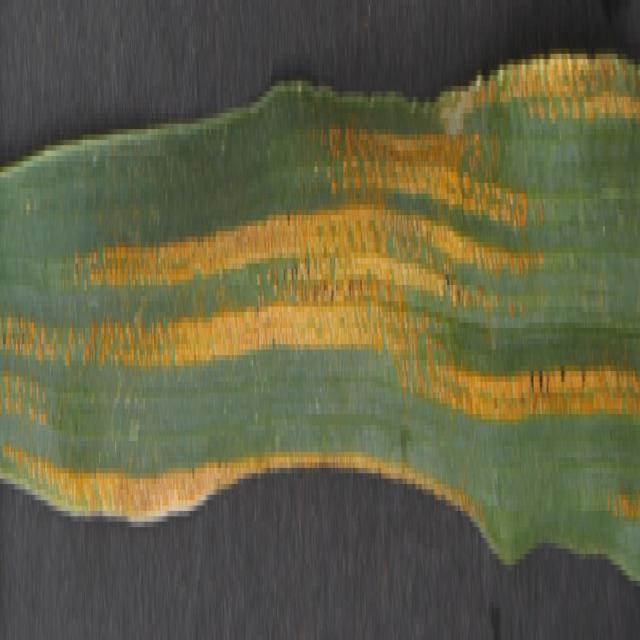leaf rust: (1, 27, 638, 511)
